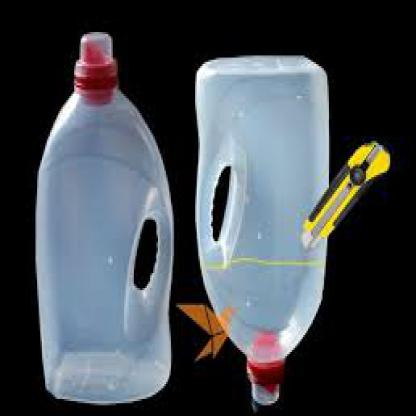5: (32, 30, 171, 403), (193, 53, 329, 404), (69, 30, 118, 102), (244, 333, 282, 401)
Compsot: (302, 184, 348, 243)
